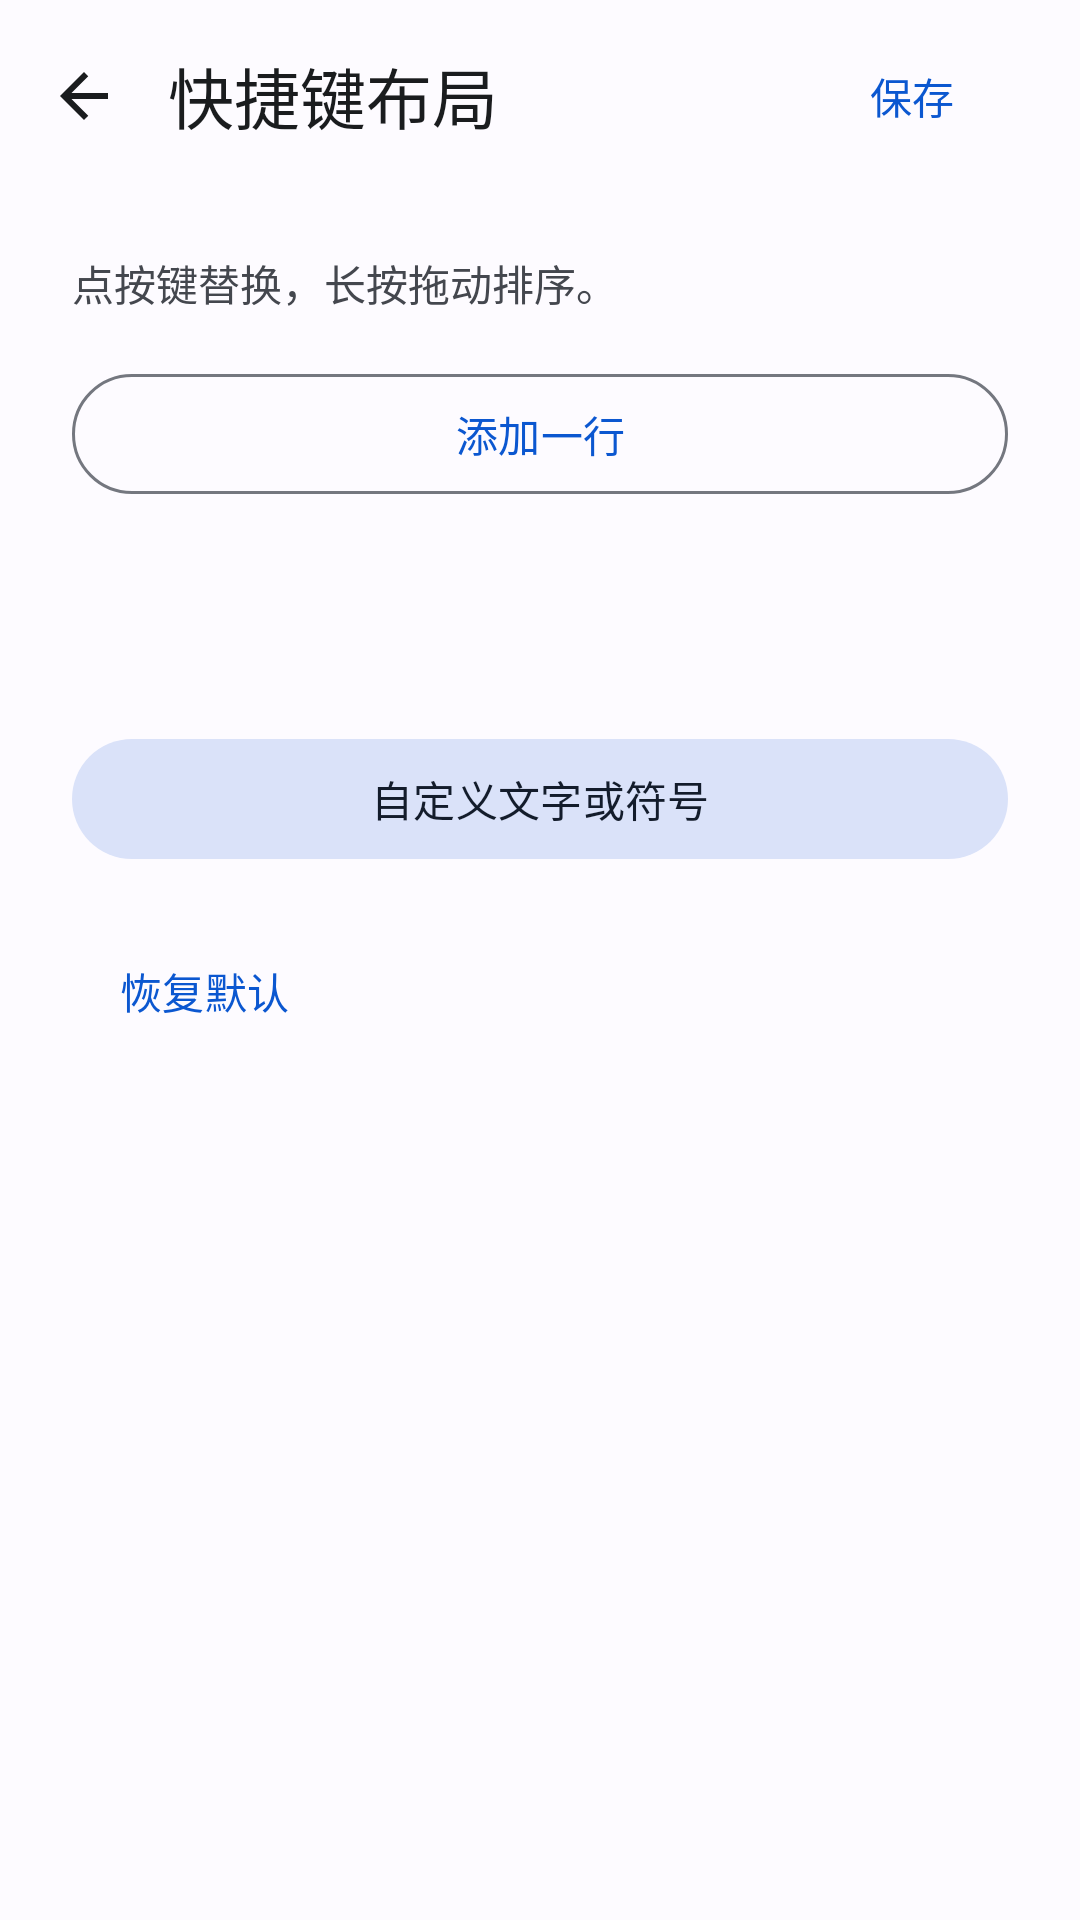

Icons on this 1080 x 1920 Android screen, each with its box as box=[x1, y1, x2, y2]:
返回: box=[60, 72, 108, 120]
